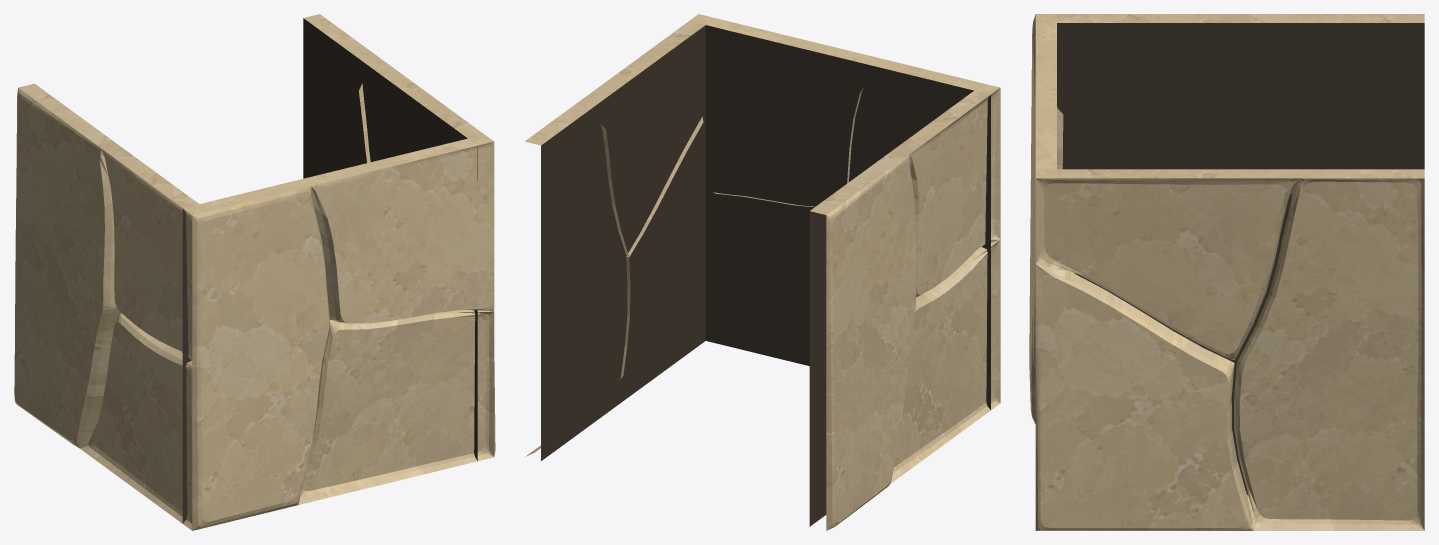
Rendered from ground_square_end_03.glb.
3 renders of one model, left to right at view 1: azimuth 30°, elevation 25°; view 2: azimuth 150°, elevation 25°; view 3: azimuth 270°, elevation 25°, orthographic. The views are drawn at different scales.
Parts seen in each view (by area): view 1: GroundSquareEnd03_Body; view 2: GroundSquareEnd03_Body; view 3: GroundSquareEnd03_Body.
Boxes of the visible parts, left/top/right/bottom form: GroundSquareEnd03_Body: left=14, top=14, right=495, bottom=530; GroundSquareEnd03_Body: left=525, top=14, right=1000, bottom=530; GroundSquareEnd03_Body: left=1029, top=14, right=1424, bottom=530.
Bounding box in the file's own units: 1.03 × 1 × 1.02.
11 materials, 10 textured.
